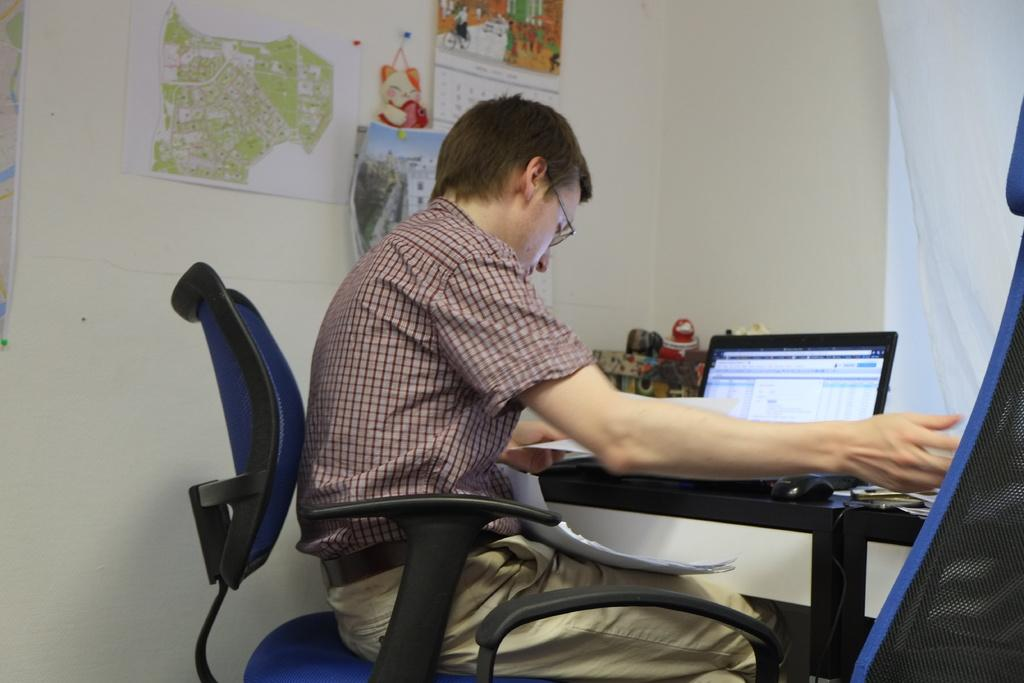Pessoa: (298, 96, 956, 503)
